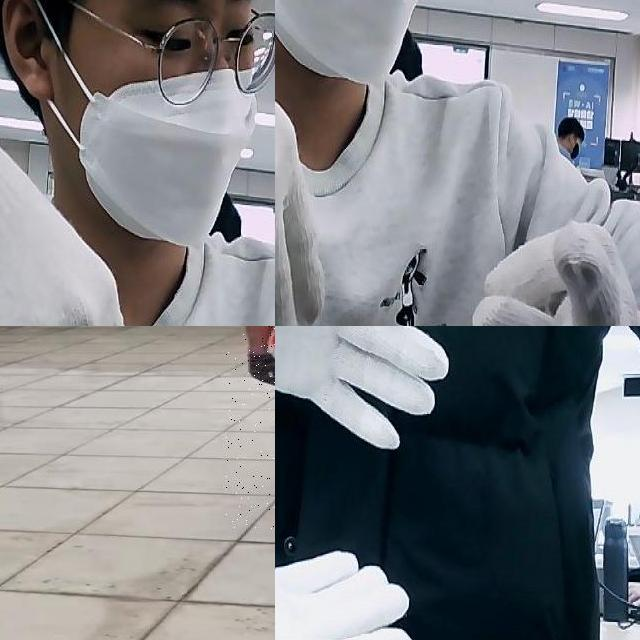GLOVE: (0, 99, 145, 326), (275, 326, 449, 457), (469, 220, 640, 326), (275, 549, 415, 640), (248, 352, 275, 387)
